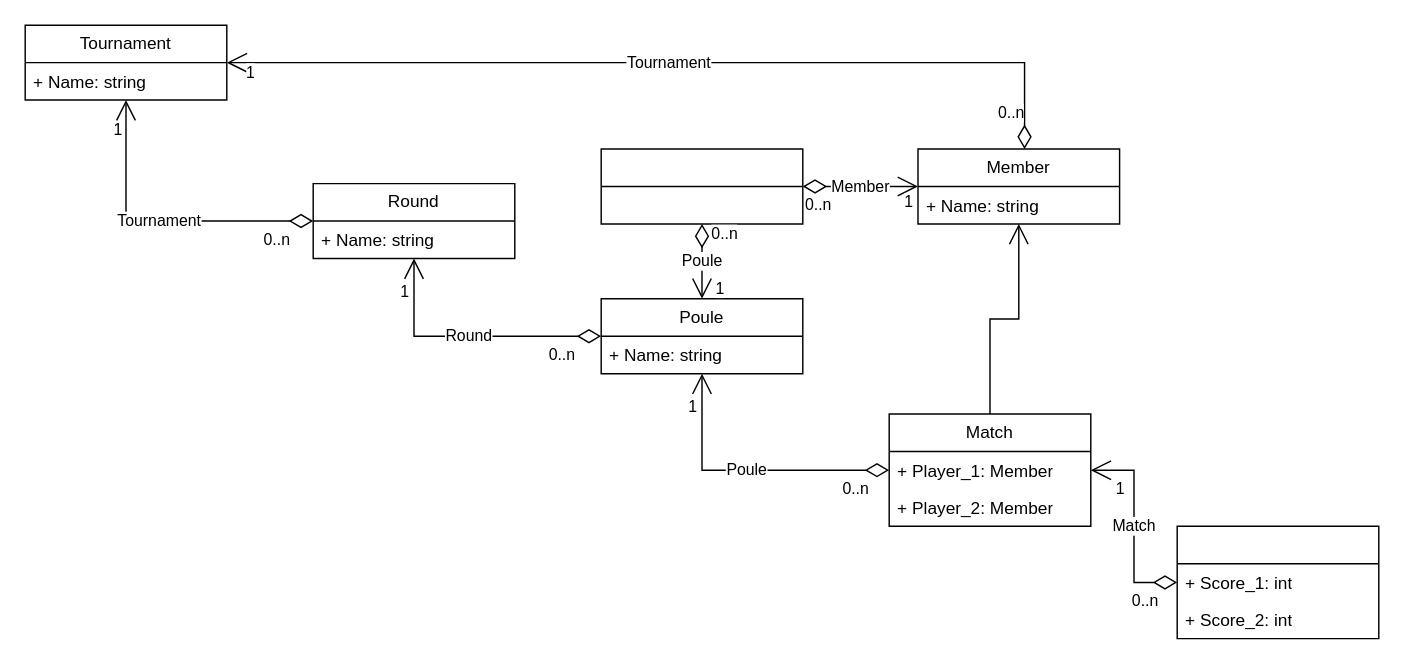
Image size: 1404x668. Some labels were removed from this diagram. Each missing label, with the box of its shape:
PouleMember: (600, 148, 803, 224)
Set: (1176, 525, 1379, 639)
